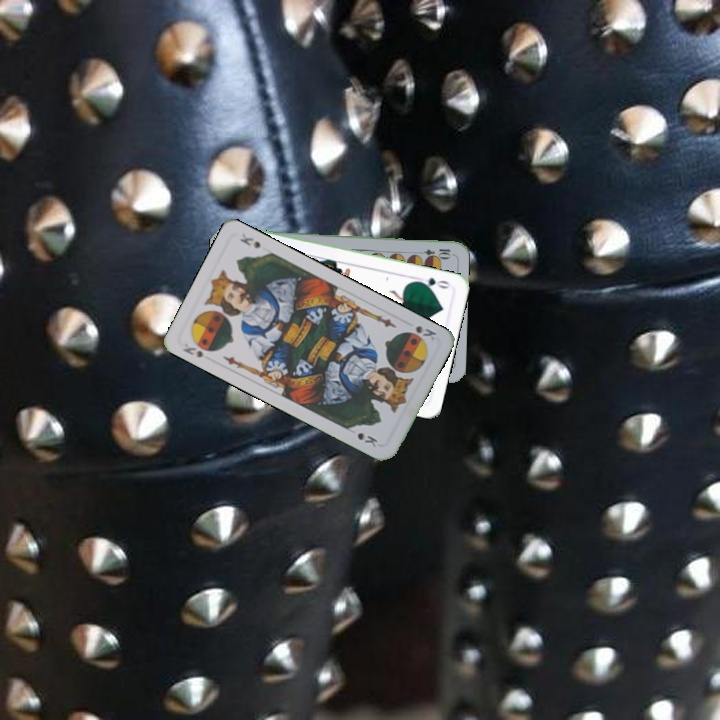E10: (413, 245, 453, 259)
GO: (413, 273, 453, 291)
SK: (411, 321, 439, 343), (179, 339, 207, 360)
